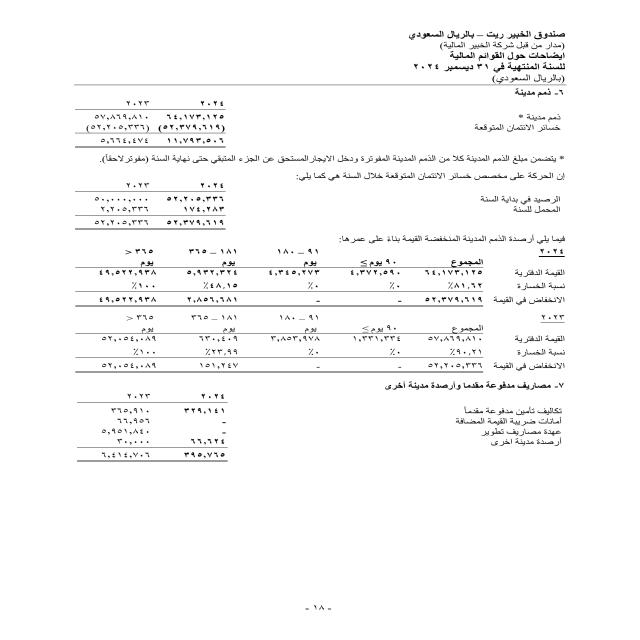table: (51, 247, 575, 382), (69, 390, 234, 472), (56, 177, 245, 240), (62, 96, 243, 153)
